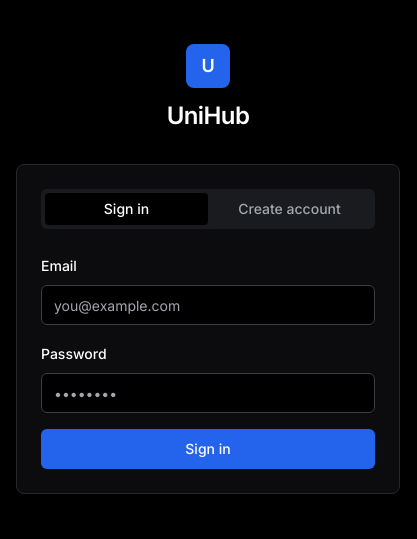
Scenario: the sign-in form › names a wrong address and a short password and sends nothing
In the field labelled "Email": (208, 305) [41,285,375,325], type "not-an-address"
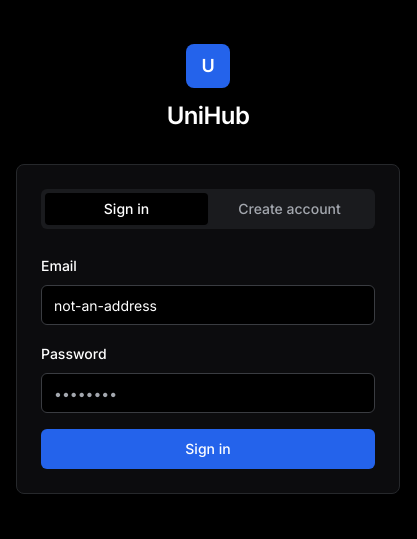
In the password field labelled "Password": (208, 393) [41,373,375,413], type "short"
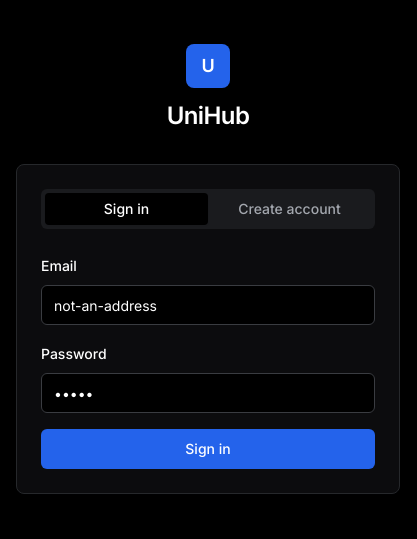
Submit the form "Sign in", box [41,253,375,469]
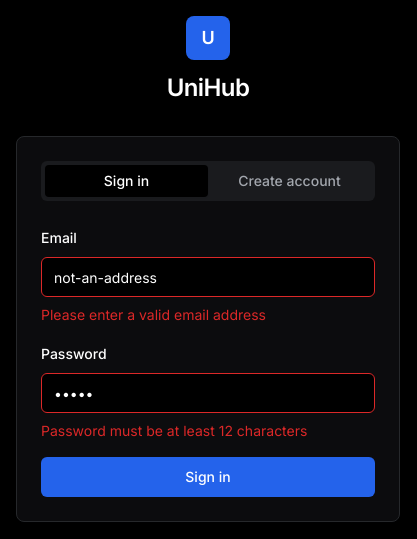
Result: the text "Please enter a valid email address" is shown at [41,306,266,323]
Result: the text "Password must be at least 12 characters" is shown at [41,422,307,439]
